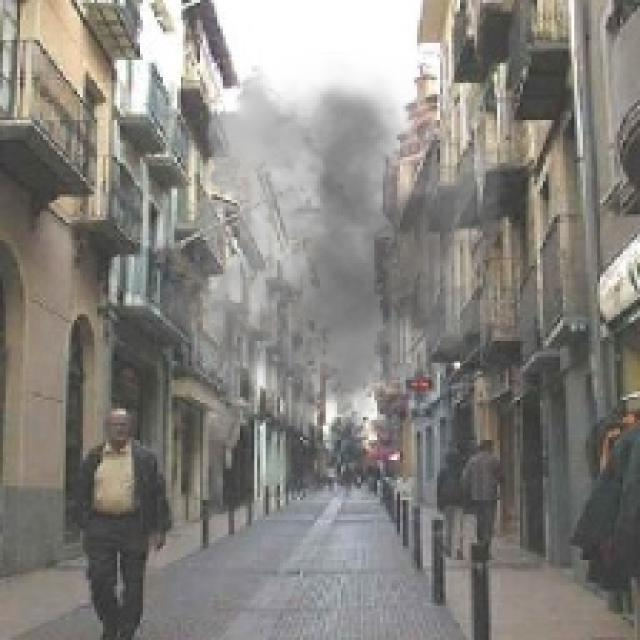Smoke: (126, 51, 523, 446)
